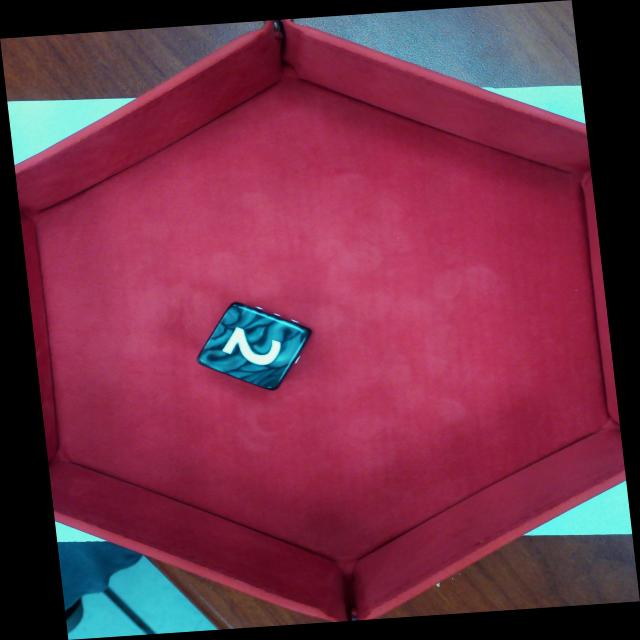dice: (192, 300, 313, 396)
